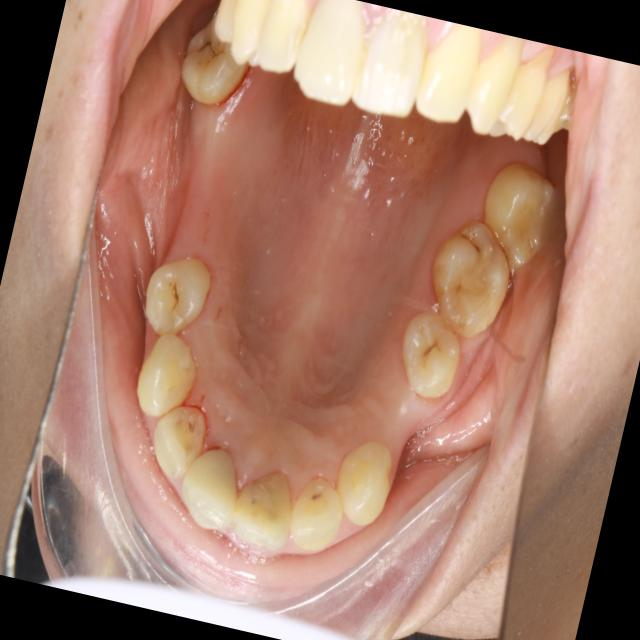tooth: (409, 204, 532, 365), (465, 155, 568, 287), (318, 419, 414, 549), (133, 379, 232, 503), (165, 6, 267, 124), (123, 316, 220, 439), (381, 294, 476, 418), (126, 241, 232, 351), (216, 453, 315, 568), (170, 423, 258, 547), (278, 458, 356, 571)
